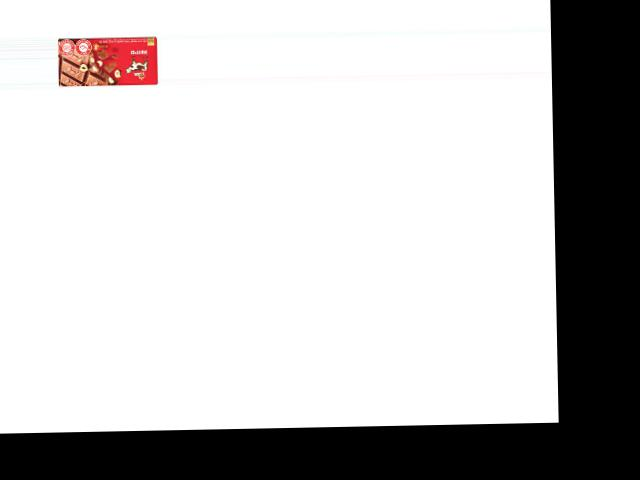chocolate: (57, 35, 158, 86)
